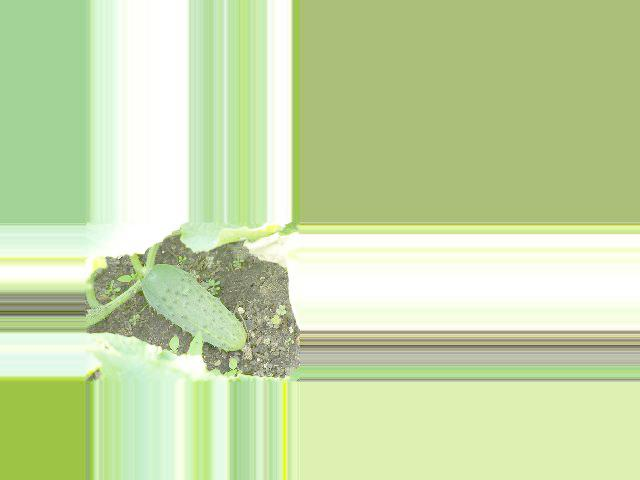cucumber: (140, 263, 246, 351)
